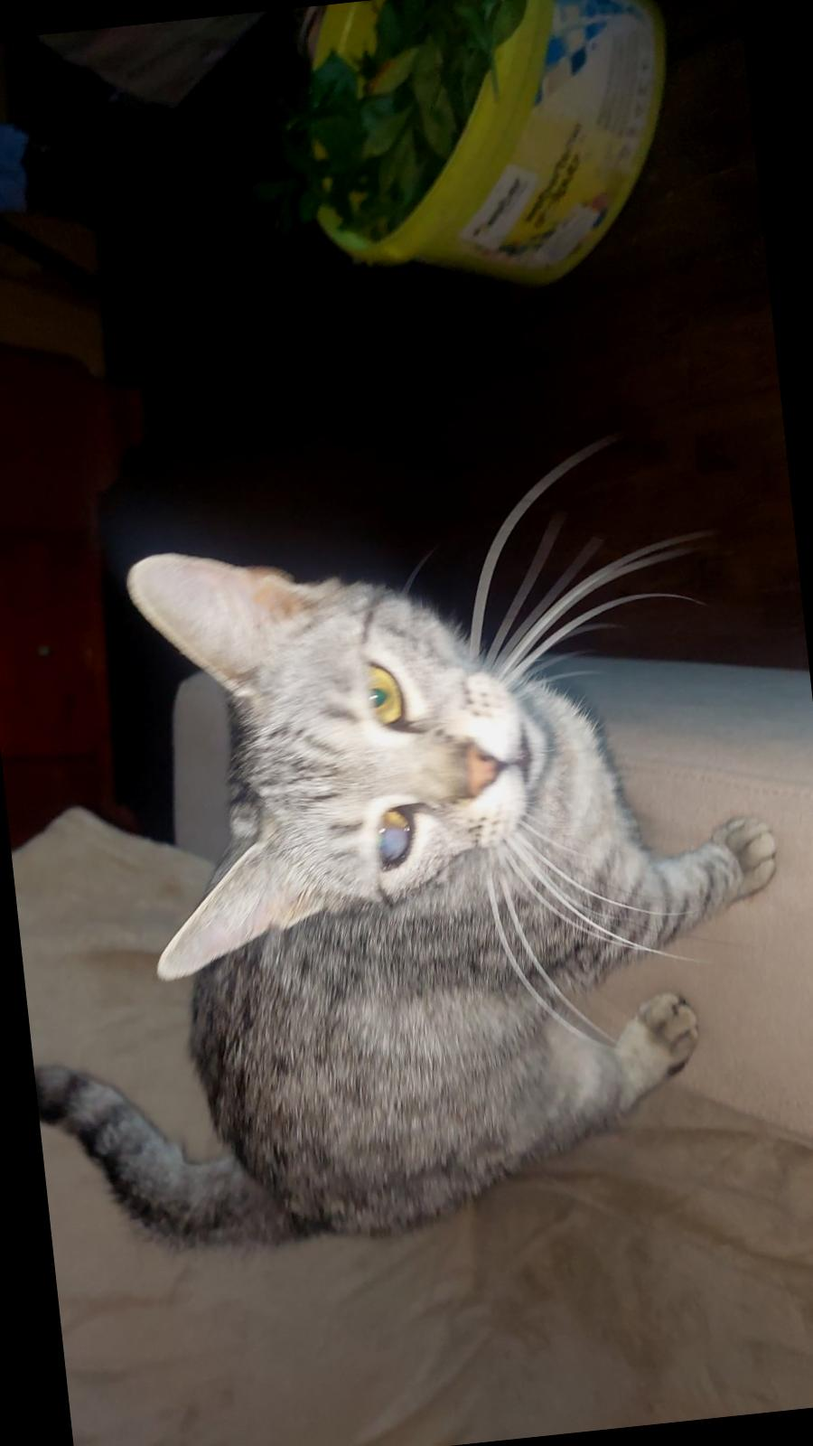macka: (0, 482, 813, 1272)
